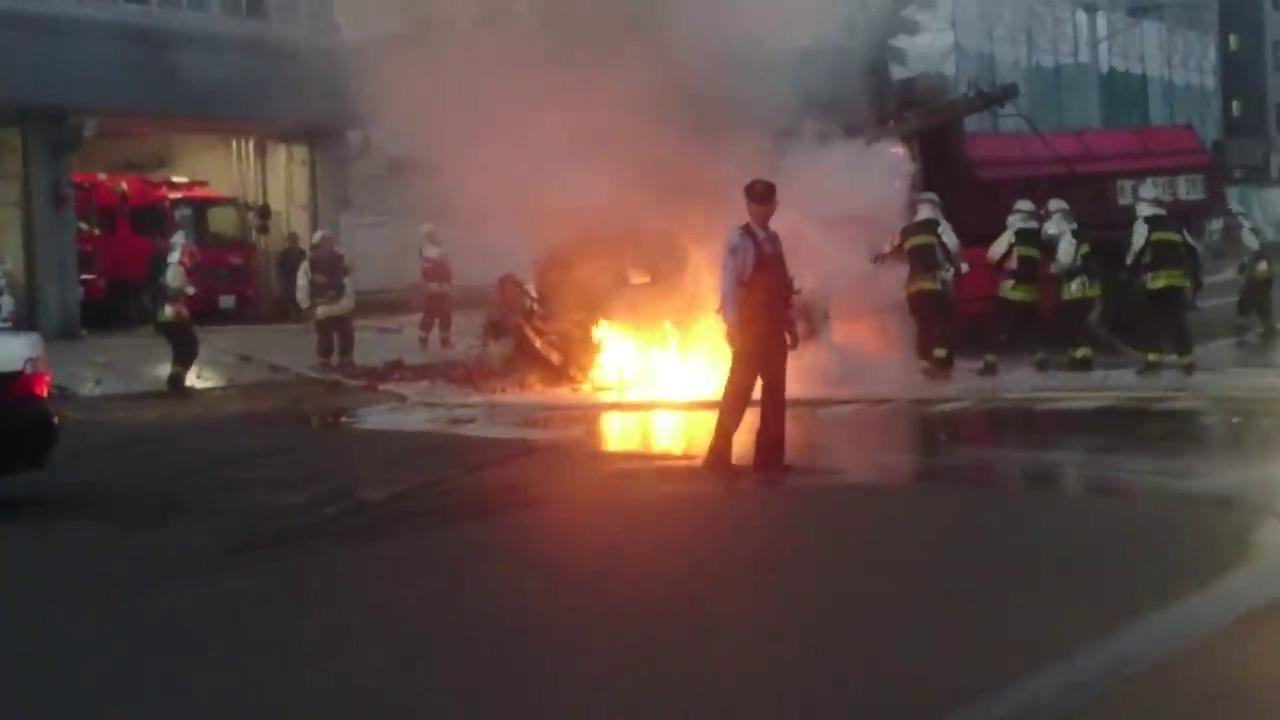fire: (590, 320, 718, 404)
smoke: (448, 0, 826, 180)
